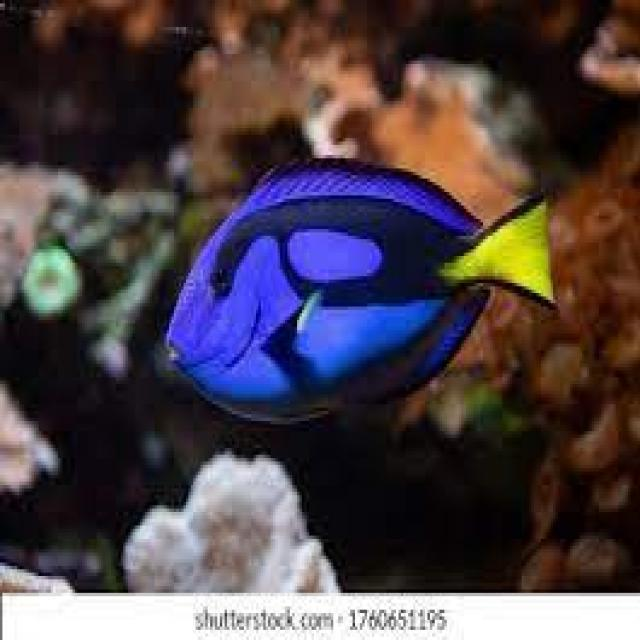TangFish: (162, 150, 559, 424)
